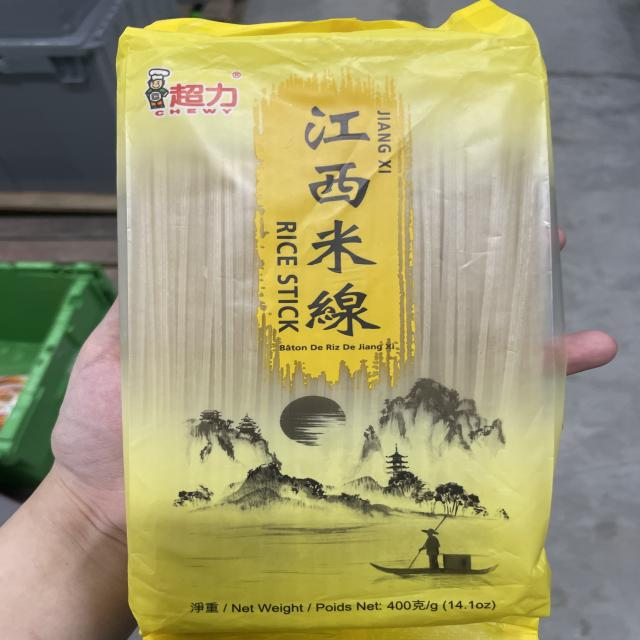object_name: (129, 30, 536, 632)
